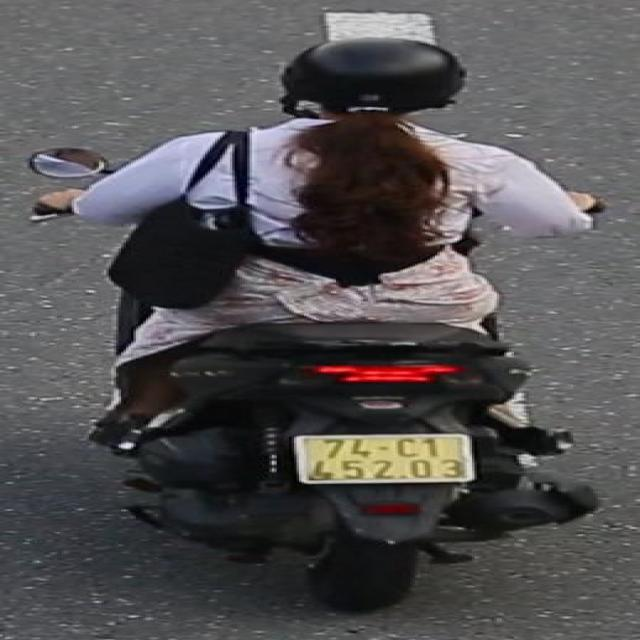LP: (289, 431, 482, 489)
helmet: (272, 32, 469, 134)
